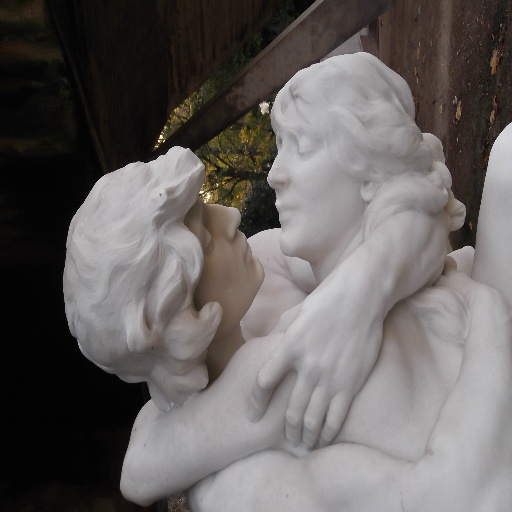hand: (245, 282, 383, 445), (436, 254, 476, 299)
